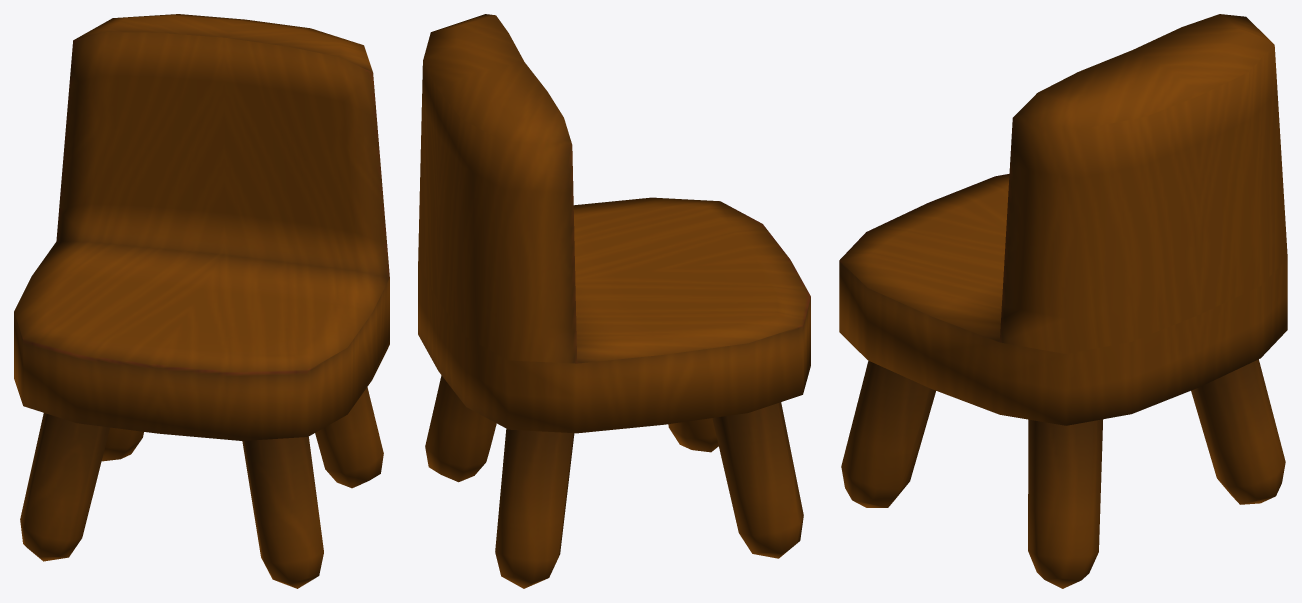
The model's file is Silla 02.fbx.
The picture shows the model from 3 angles, left to right: view 1: azimuth 30°, elevation 25°; view 2: azimuth 150°, elevation 25°; view 3: azimuth 270°, elevation 25°; orthographic projection. The views are drawn at different scales.
Parts seen in each view (by area): view 1: Silla; view 2: Silla; view 3: Silla.
Part boxes in pixels (box(x1,y1,x2,y2)): Silla: box(14, 14, 389, 588); Silla: box(418, 14, 810, 588); Silla: box(839, 14, 1287, 588).
Bounding box in the file's own units: 58.5 × 69.7 × 58.5.
